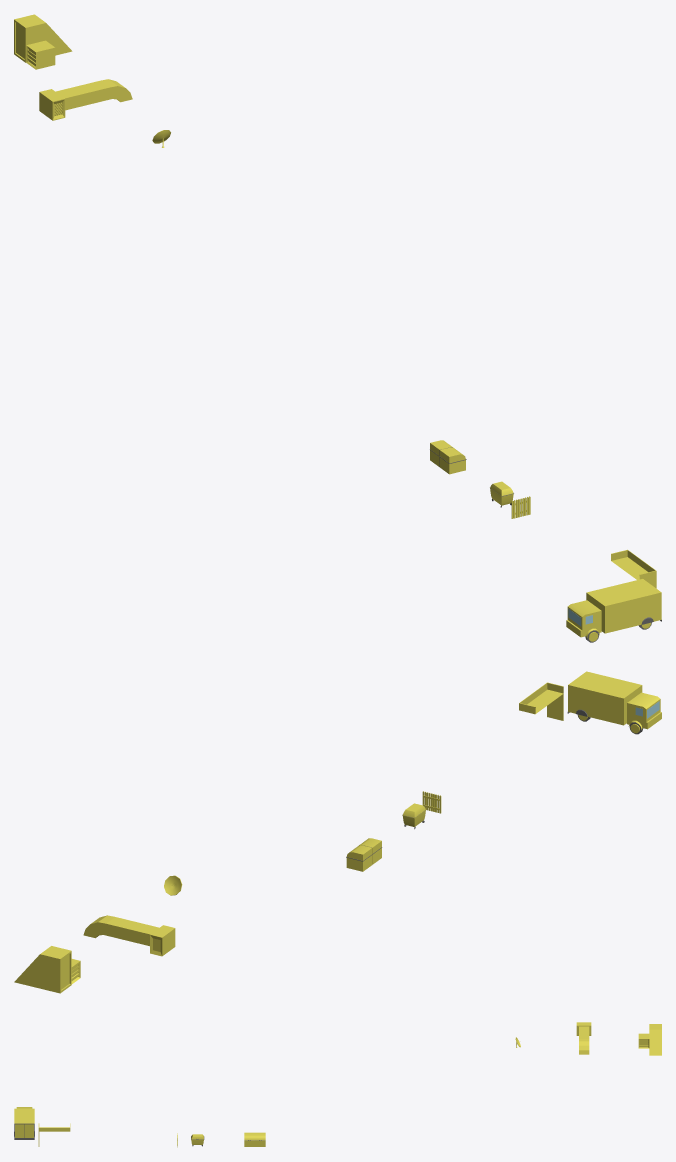
Rendered from ObstaclesBloque.fbx.
The picture shows the model from 3 angles, top to bottom: view 1: azimuth 30°, elevation 25°; view 2: azimuth 150°, elevation 25°; view 3: azimuth 270°, elevation 25°; orthographic projection. The views are drawn at different scales.
Visible parts, largest first — view 1: Camion, Aération, Porte_toit; view 2: Camion, Aération, Porte_toit, Balcon, BigPoubelle; view 3: Camion, Aération, Porte_toit, BigPoubelle.
Part boxes in pixels (x1,y1,x2,y2): Camion: (566,579,661,642); Aération: (39,79,132,120); Porte_toit: (14,14,72,62); Camion: (567,671,661,734); Aération: (83,915,175,956); Porte_toit: (14,946,71,993); Balcon: (519,682,563,720); BigPoubelle: (346,838,382,871); Camion: (14,1107,34,1139); Aération: (576,1022,591,1054); Porte_toit: (649,1024,661,1055); BigPoubelle: (244,1132,265,1146).
Bounding box in the file's own units: 679 × 1085 × 6139.
